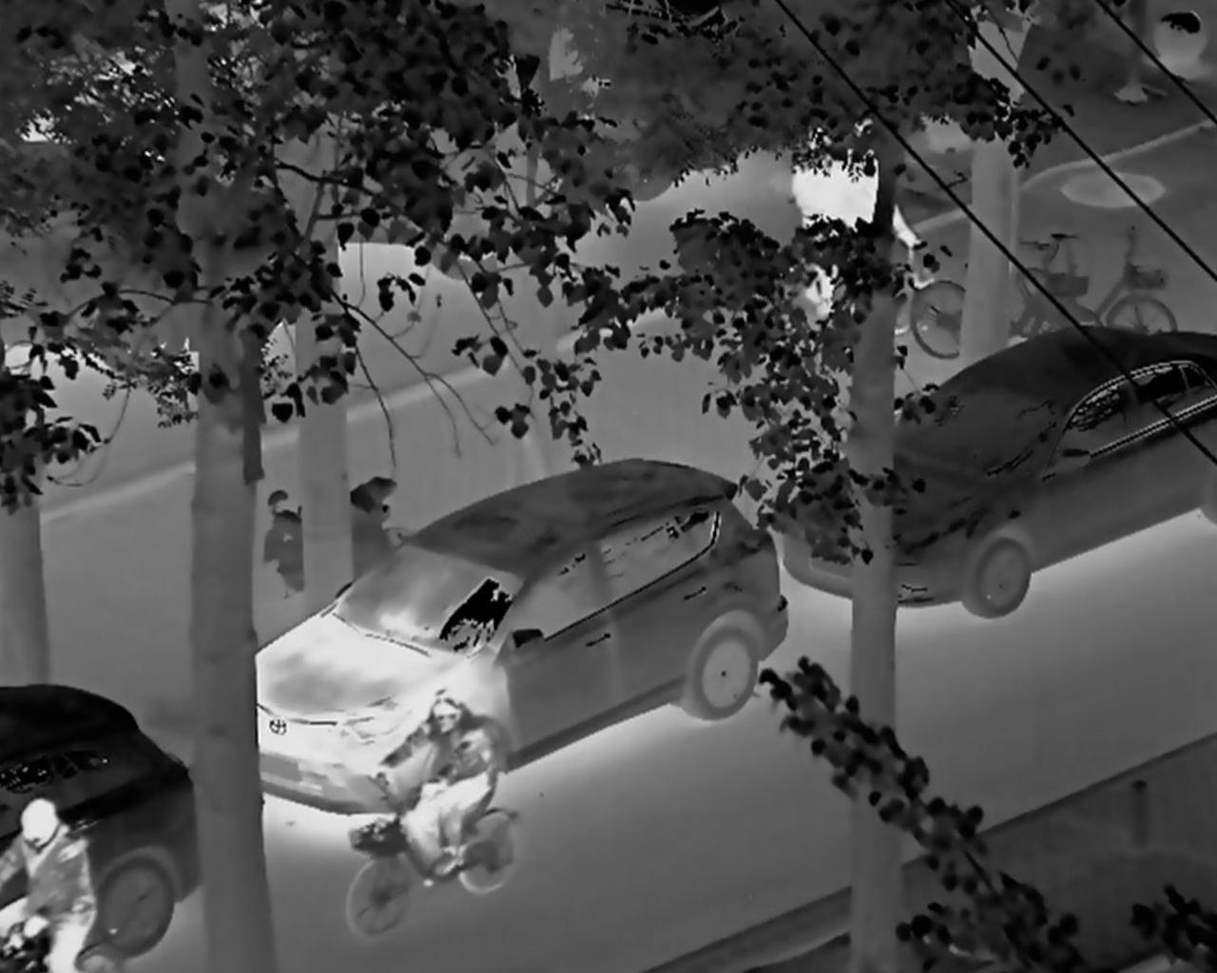person: (381, 689, 504, 890), (837, 118, 918, 338), (793, 125, 854, 315)
